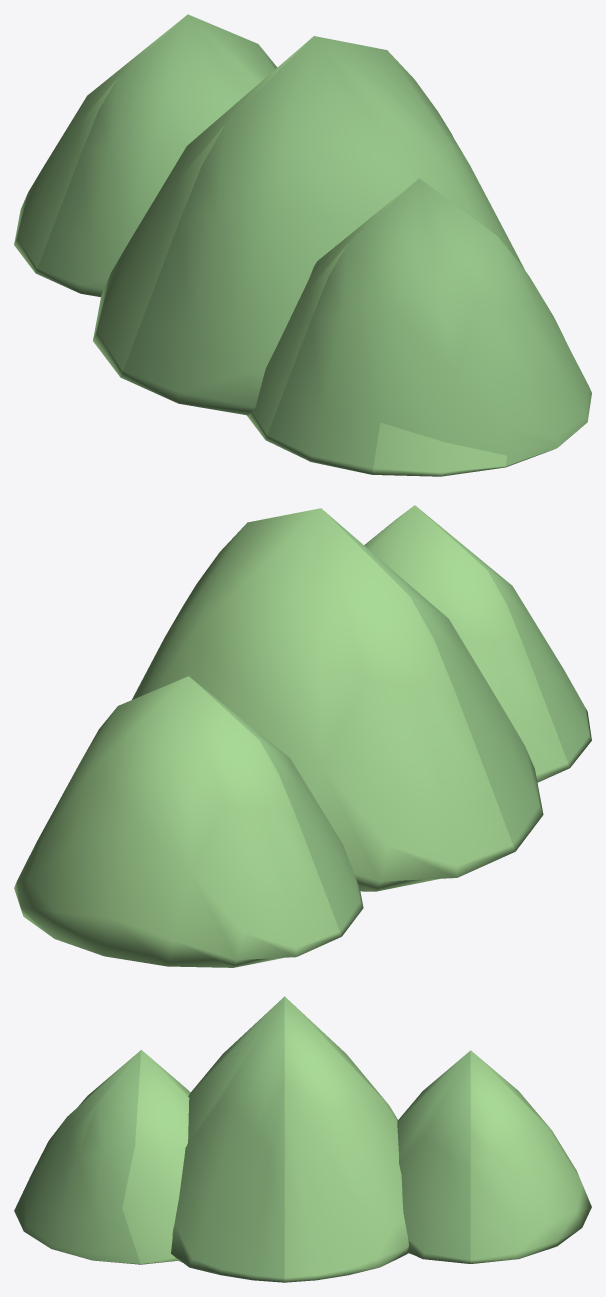
The model's file is Montaña_verde.fbx.
3 views of the same model, one above another, from view 1: azimuth 30°, elevation 25°; view 2: azimuth 150°, elevation 25°; view 3: azimuth 270°, elevation 25° (orthographic). The views are drawn at different scales.
Visible parts, largest first — view 1: Cono; view 2: Cono; view 3: Cono.
Boxes of the visible parts, x1,y1,x2,y2 form: Cono: (14, 14, 591, 476); Cono: (14, 505, 591, 967); Cono: (14, 996, 591, 1282).
Size of the model in its own units: 3.93 by 2.75 by 6.76.
